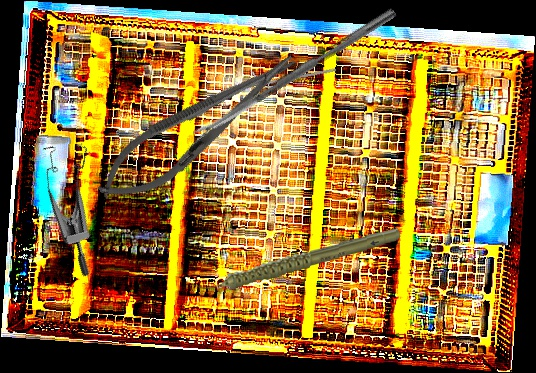Handpiece: (190, 226, 402, 293)
Needle Holder: (85, 36, 311, 218), (217, 45, 337, 108)
Speculum: (20, 129, 140, 279)
Surgical Spoon: (191, 6, 398, 141)
